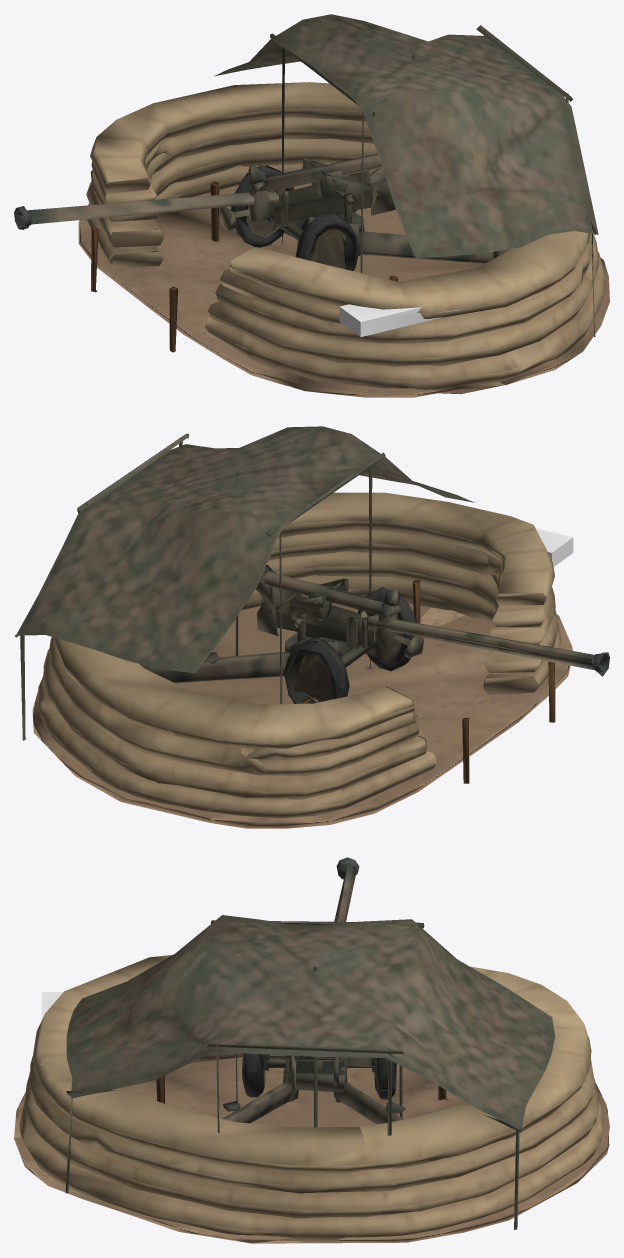
Rendered from us-firebase.glb.
The picture shows the model from 3 angles, top to bottom: view 1: azimuth 30°, elevation 25°; view 2: azimuth 150°, elevation 25°; view 3: azimuth 270°, elevation 25°; orthographic projection. The views are drawn at different scales.
Parts seen in each view (by area): view 1: us-firebase, turret; view 2: us-firebase, turret; view 3: us-firebase, turret.
Boxes of the visible parts, x1,y1,x2,y2 form: us-firebase: (15, 82, 609, 397); turret: (14, 14, 583, 273); us-firebase: (15, 442, 608, 828); turret: (17, 426, 609, 703); us-firebase: (14, 867, 609, 1243); turret: (66, 857, 554, 1135).
Size of the model in its own units: 1.72 by 0.72 by 1.72.
2 materials, 1 textured.
